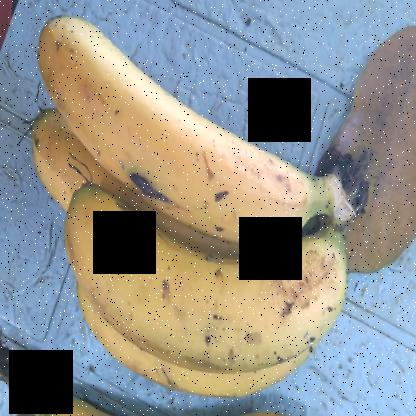ripe: (23, 11, 283, 224), (57, 207, 354, 378)
